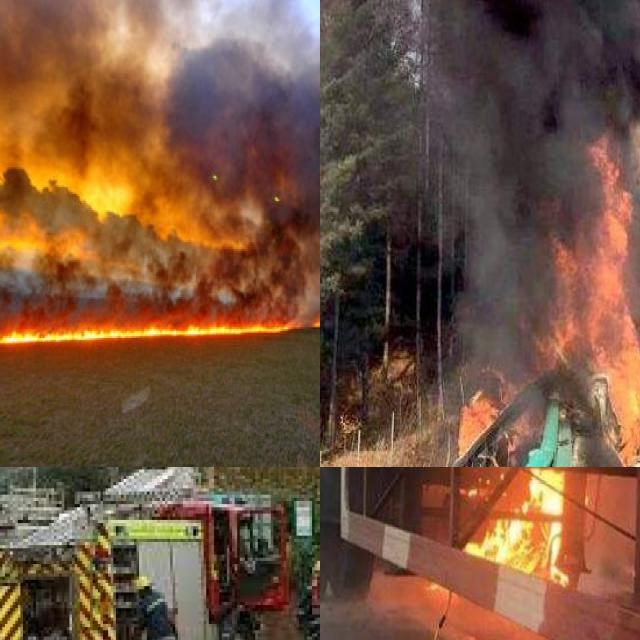fire: (454, 145, 640, 467), (454, 467, 577, 625), (0, 297, 320, 348)
smoke: (0, 0, 320, 263), (423, 0, 640, 362)
